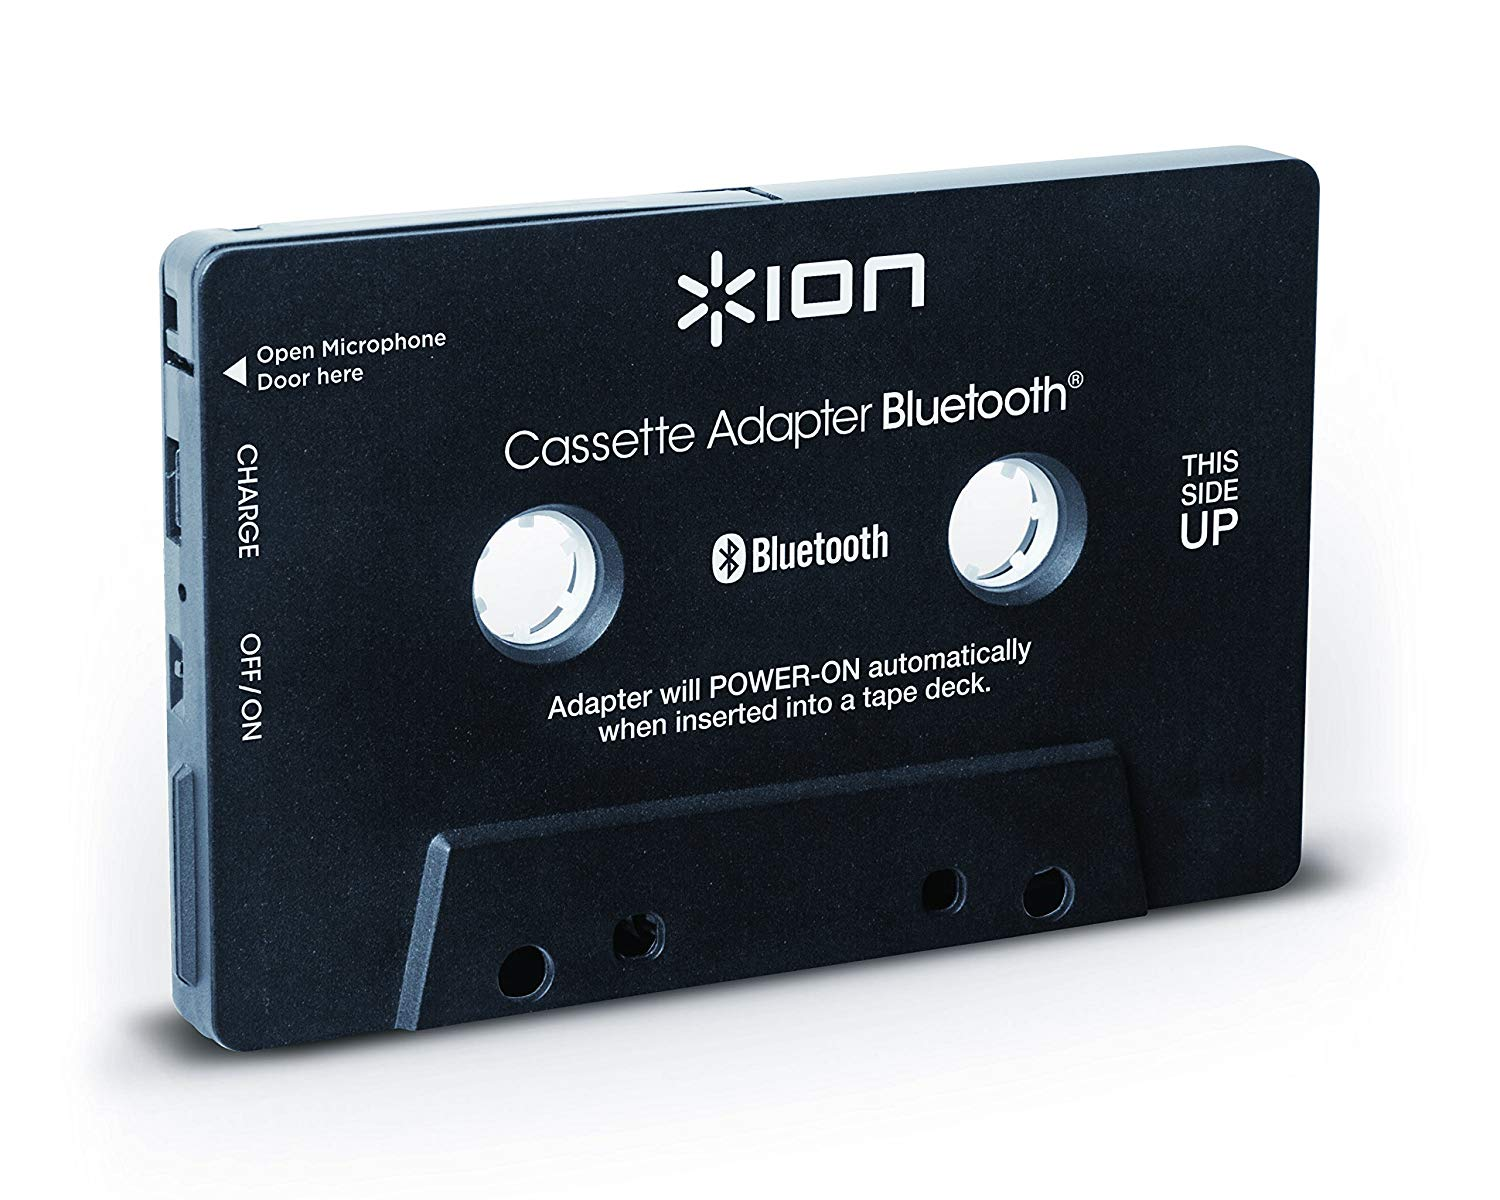Nonrec_Other: (111, 187, 1344, 1084)
